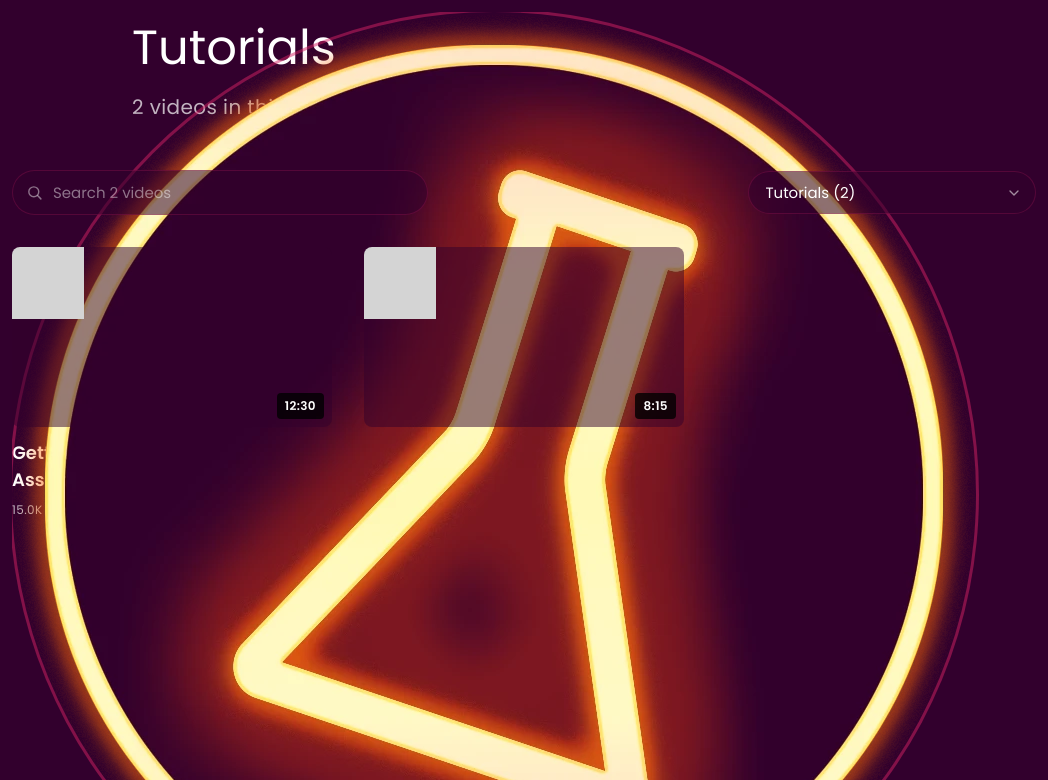
Test case: VideoGallery › text filter › says the search found nothing, not that the playlist is empty
Step 1. Type "qqqzzz" into the search field → (220, 192), box [12, 170, 428, 215]
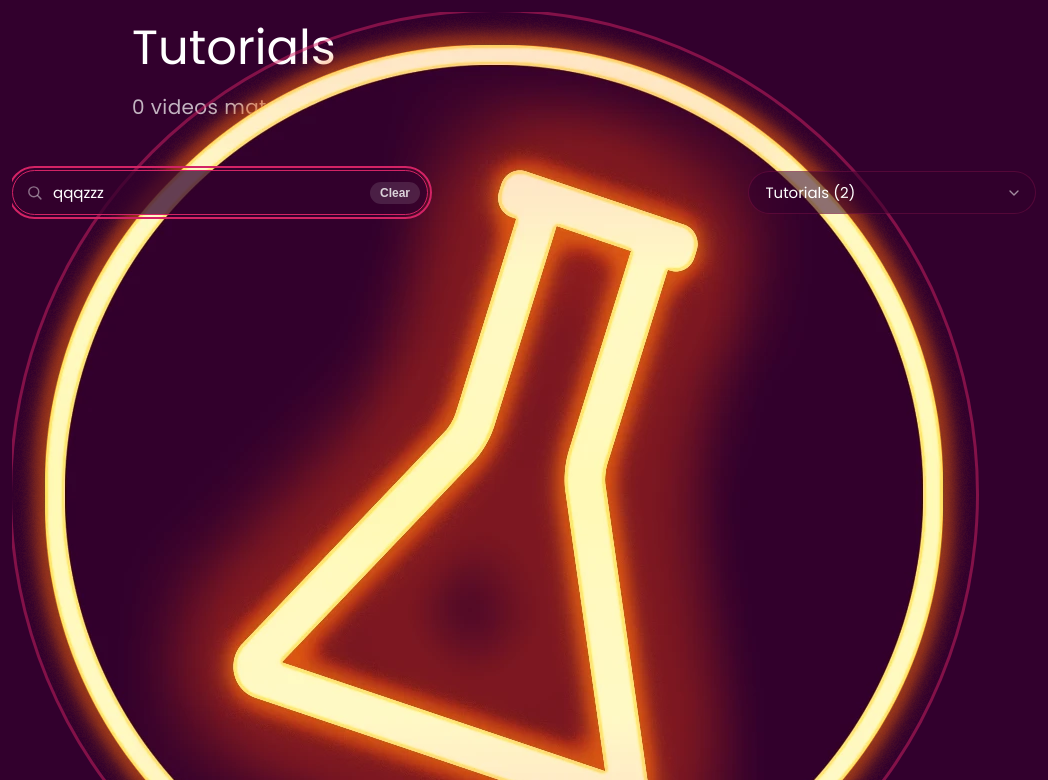
Expected: the text "No videos match \"qqqzzz\"" is shown, [405, 376, 643, 401]
